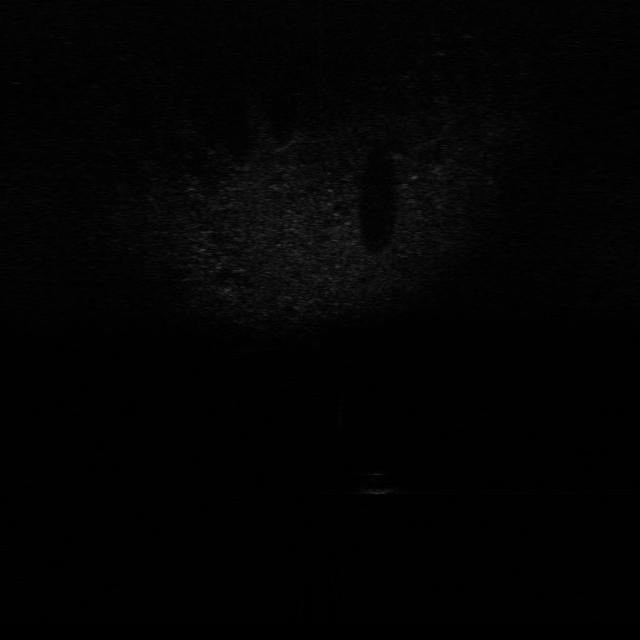ball: (362, 470, 402, 496)
